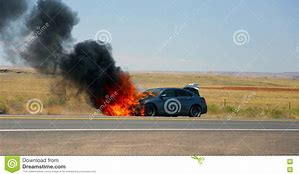smoke: (22, 1, 115, 97)
